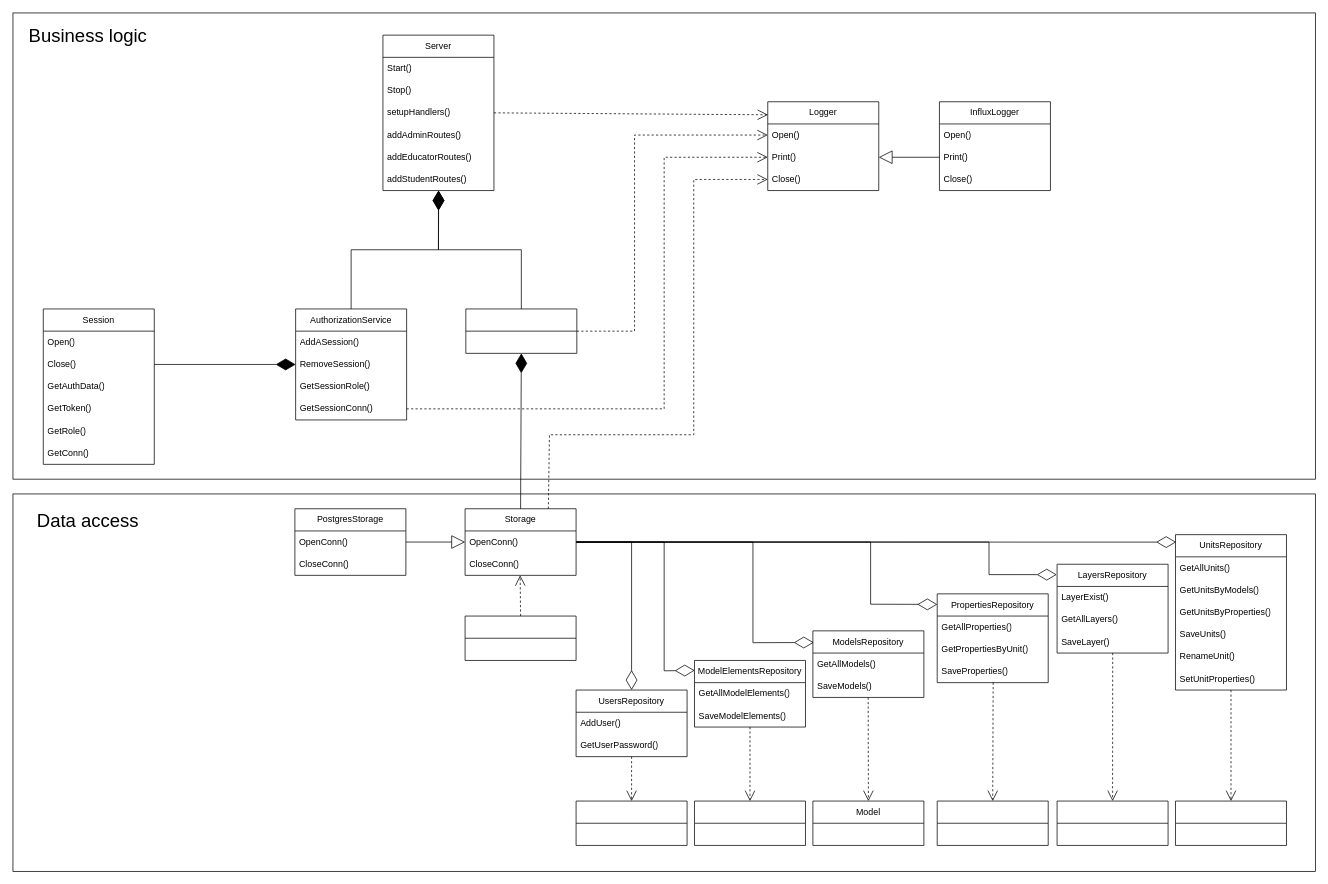
Some shapes in this 1328 by 884 pixel diagram are drawn without their labels. The shapes that lost their labels are listed below. From the top down, each one's centre as x and y in pixels, then its label:
[521,330]: StorageService
[520,637]: ConnDB
[631,822]: User
[749,822]: ModelElement
[992,822]: Property
[1112,822]: Context
[1230,822]: Unit
